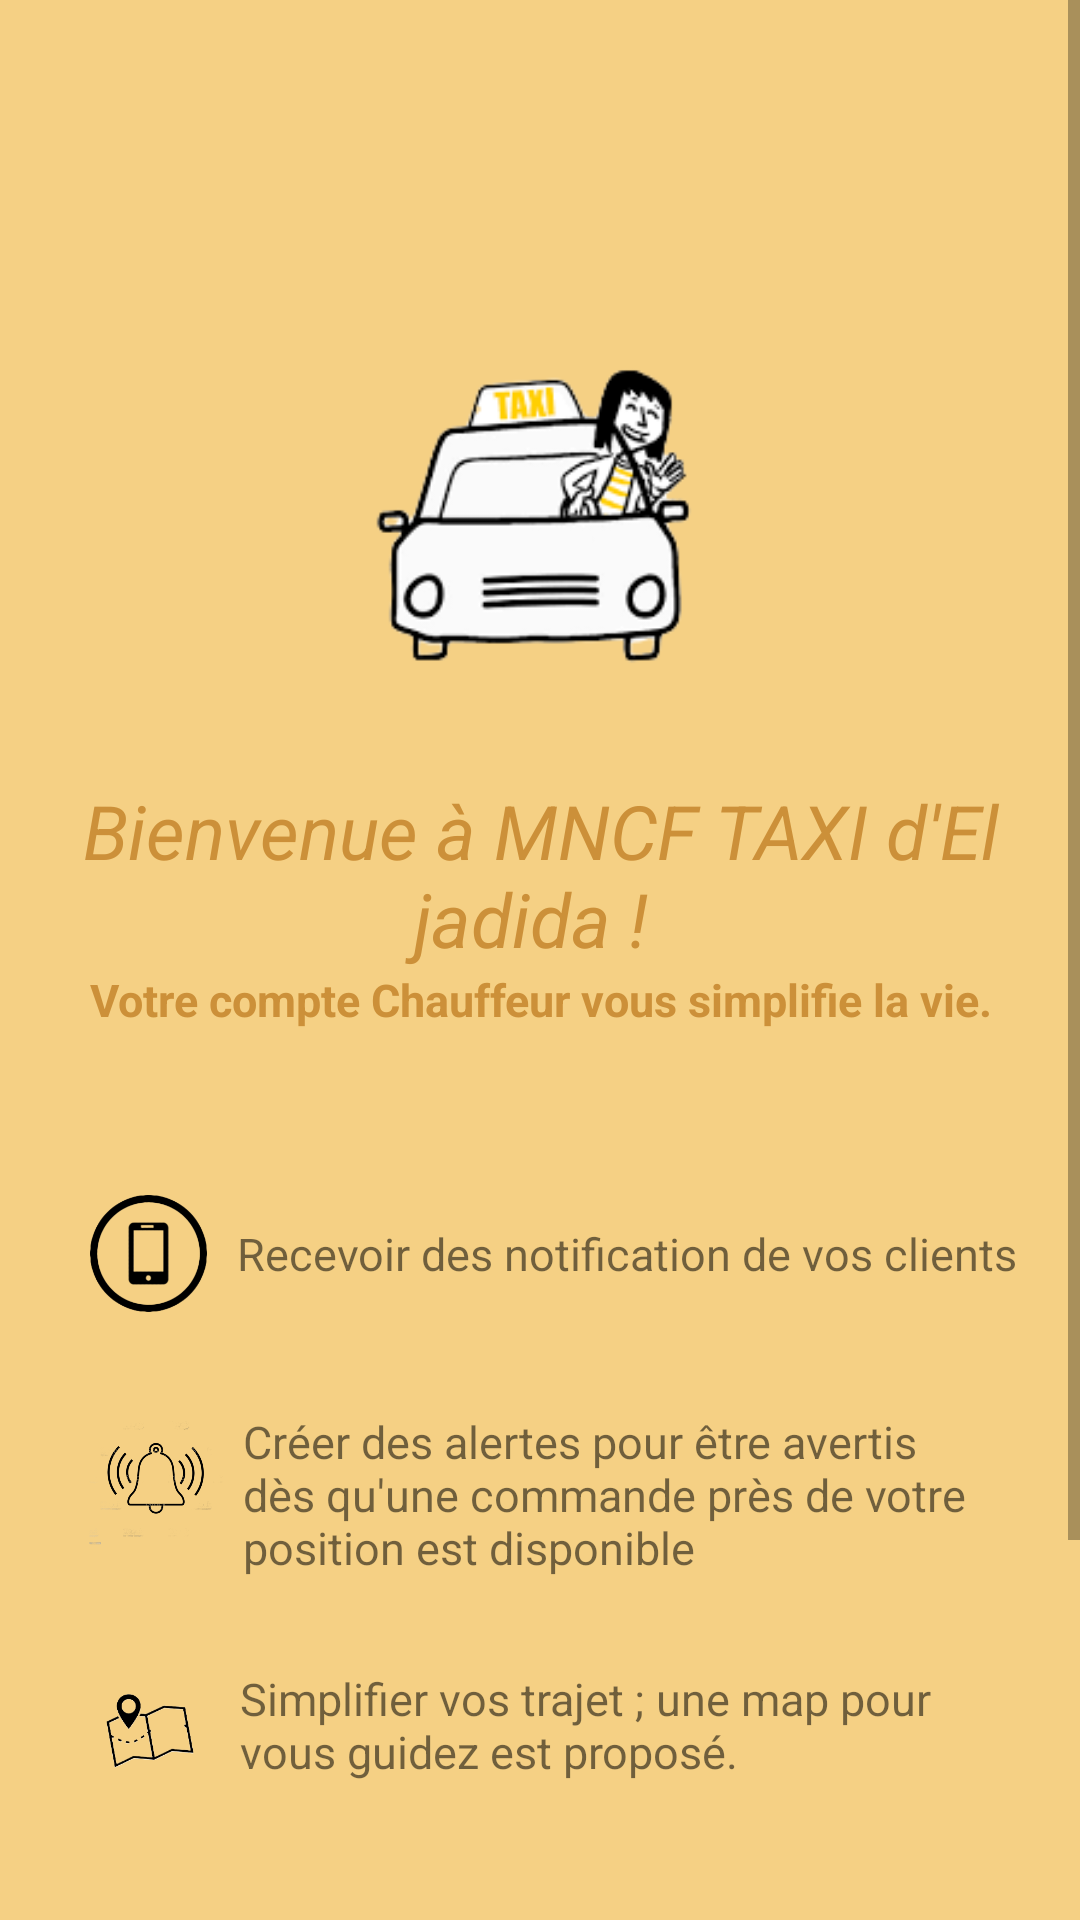

Icons on this 1080px×1920px Android screen, each with the point to tap as (x,y):
alarm: (148,1485)
hello: (532,516)
mobile: (148,1253)
